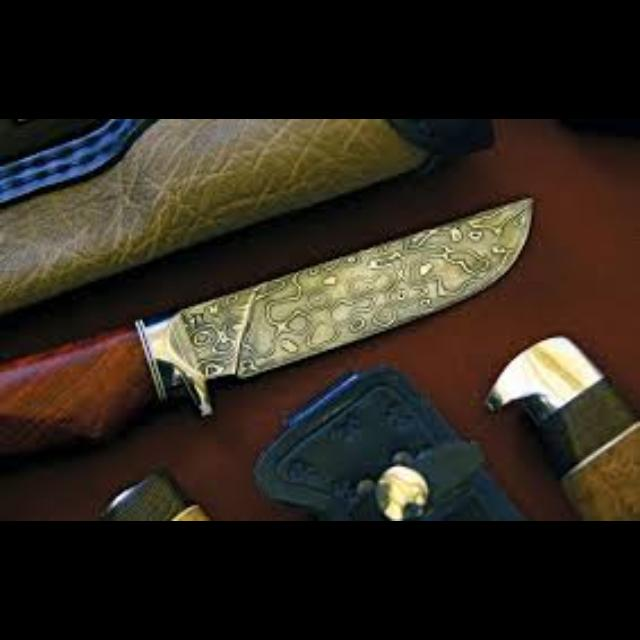knife: (1, 194, 534, 456)
